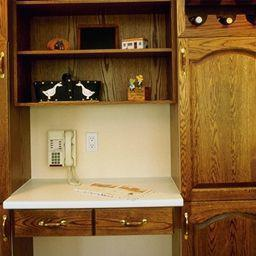Armario: (179, 36, 255, 254)
